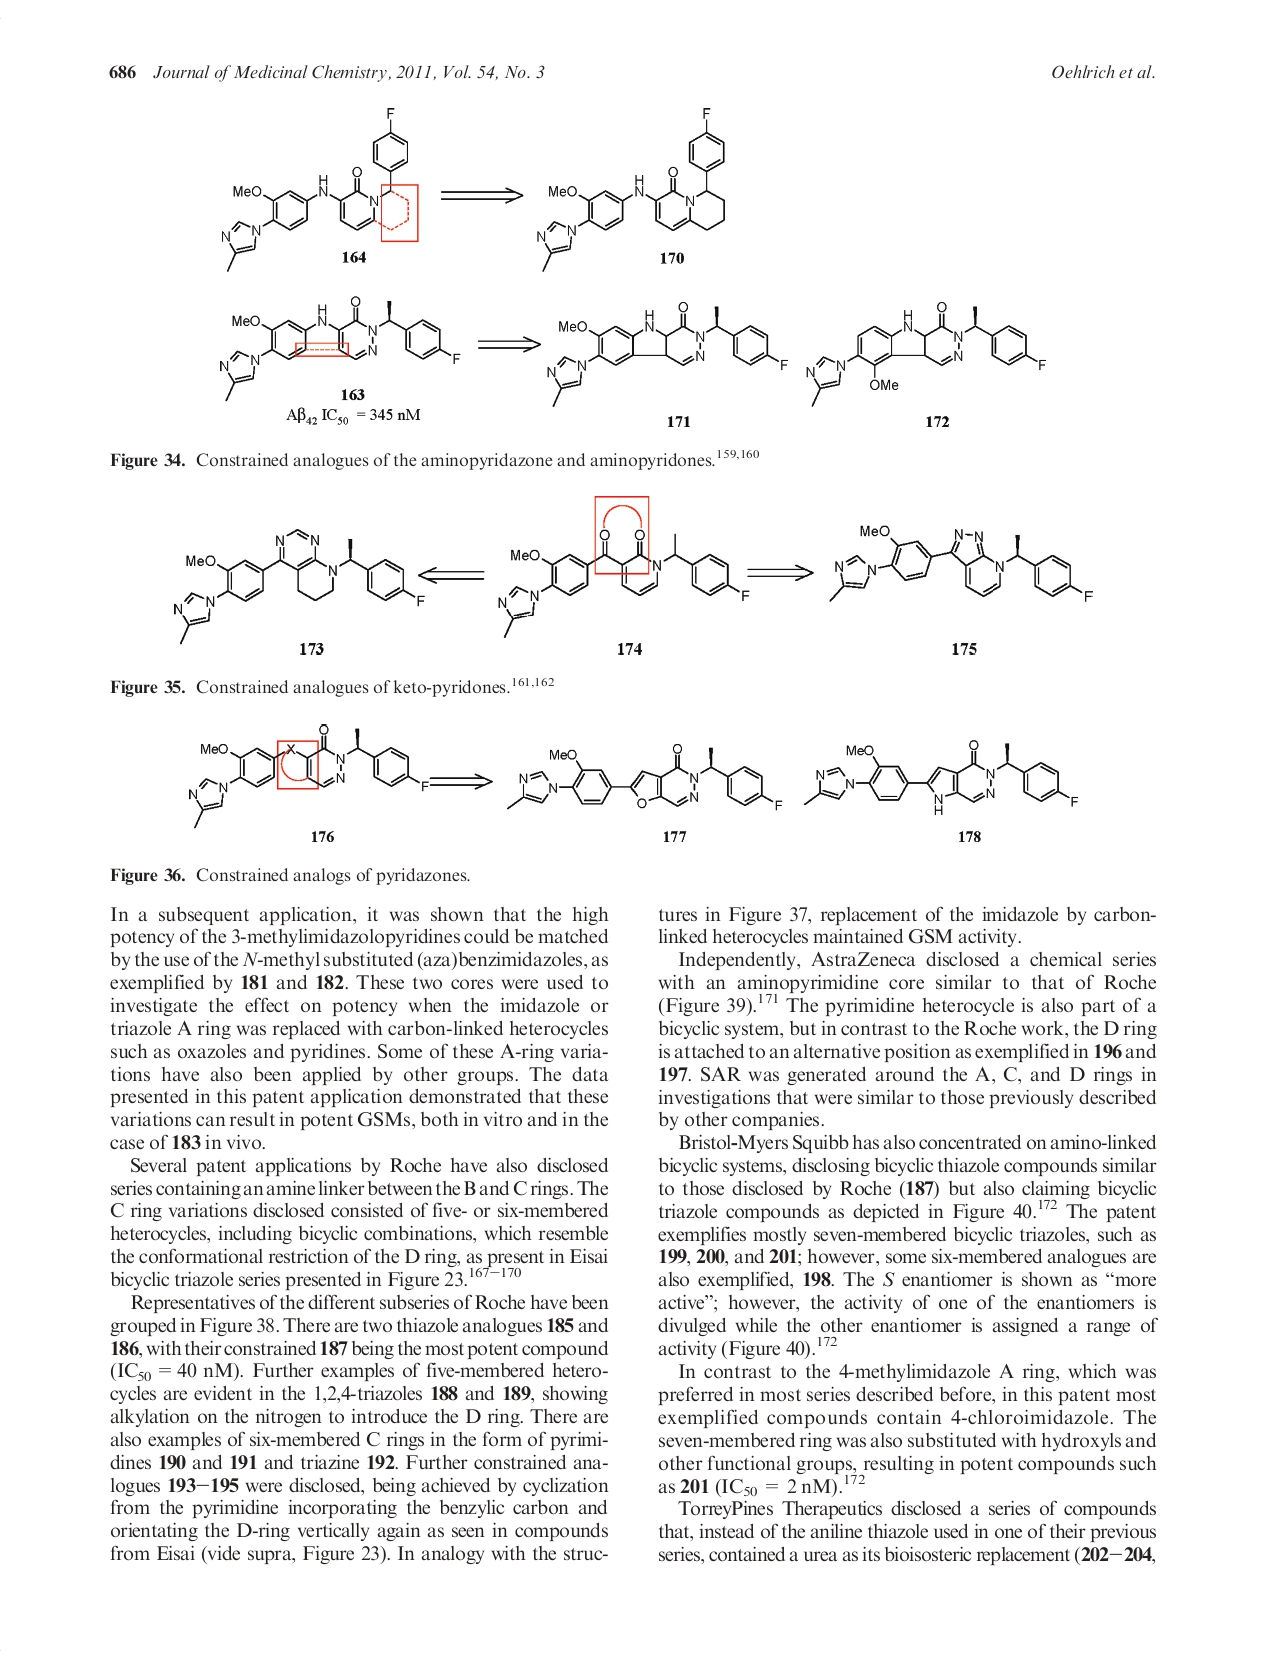exist_molecular: (533, 102, 737, 277), (215, 102, 420, 270), (170, 521, 426, 644), (207, 286, 465, 402), (493, 524, 755, 637), (543, 295, 793, 410), (802, 297, 1052, 407), (184, 722, 431, 829), (824, 519, 1094, 614), (802, 737, 1080, 818), (503, 743, 789, 817)
